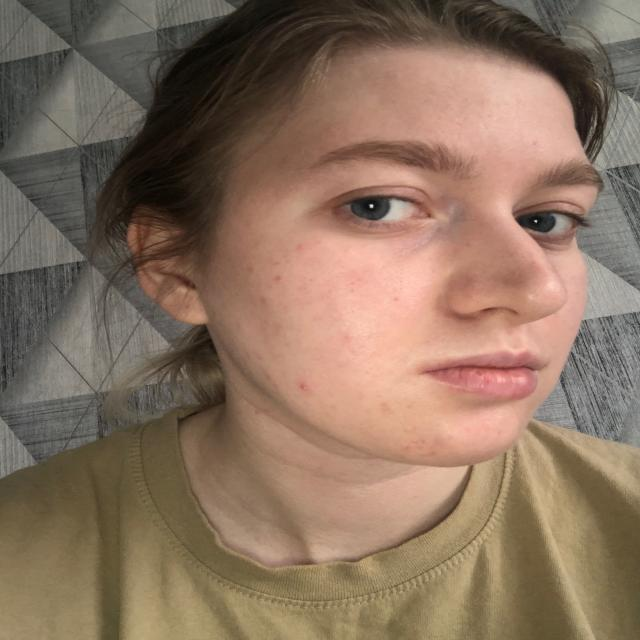acne: (512, 248, 546, 297), (397, 436, 442, 458), (344, 263, 376, 293), (261, 320, 286, 356), (338, 330, 365, 358), (336, 358, 378, 376), (442, 425, 478, 442), (264, 372, 282, 390), (239, 215, 259, 230), (380, 398, 396, 415), (232, 319, 249, 333), (238, 264, 257, 275), (298, 380, 310, 396), (268, 274, 286, 284), (254, 296, 272, 306), (294, 240, 308, 252), (528, 138, 542, 150), (386, 294, 403, 302), (308, 314, 324, 322), (495, 428, 505, 436)
dark circle: (354, 218, 446, 257)
pores: (360, 261, 412, 291)
